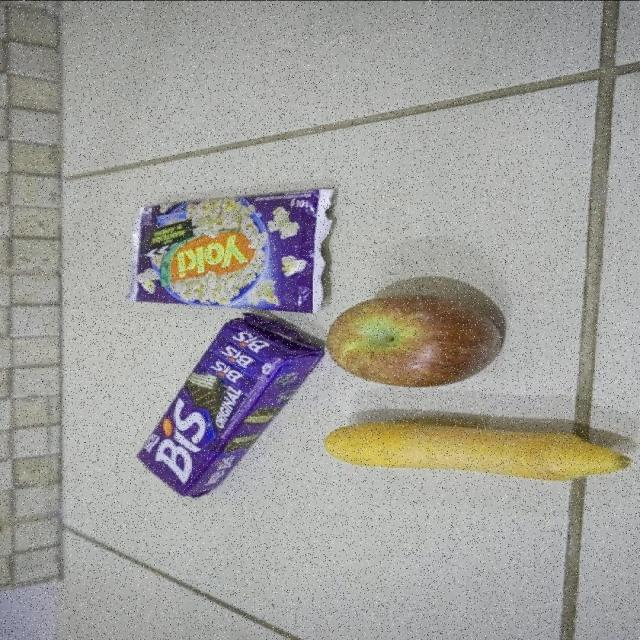Apple: (326, 290, 504, 387)
Carrot: (323, 420, 633, 484)
Popcorn: (124, 186, 336, 314)
